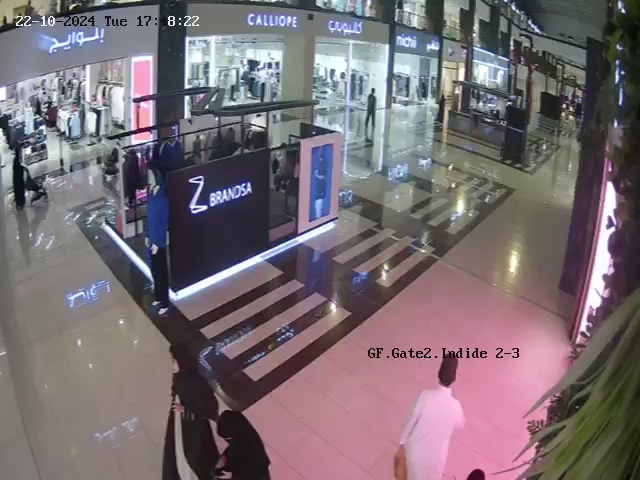female: (161, 342, 223, 480), (216, 410, 272, 480), (3, 142, 31, 215), (364, 88, 377, 129)
male: (394, 351, 466, 480)
